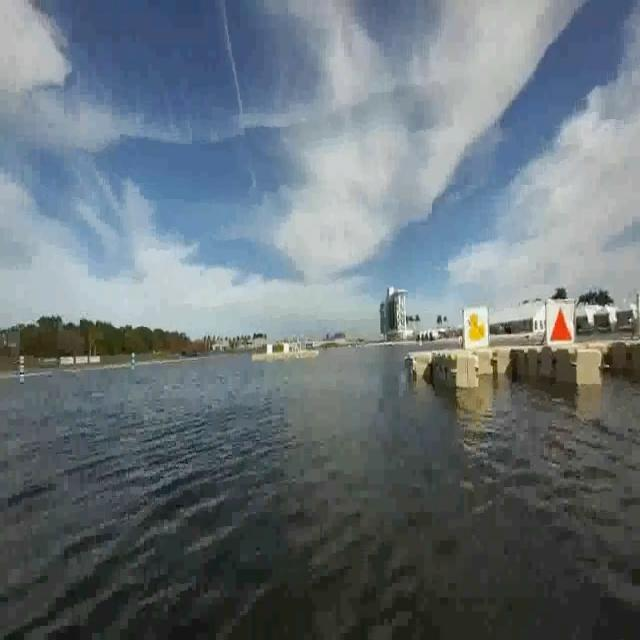red-dot: (549, 298, 575, 344)
yellow-duck: (465, 305, 488, 349)
